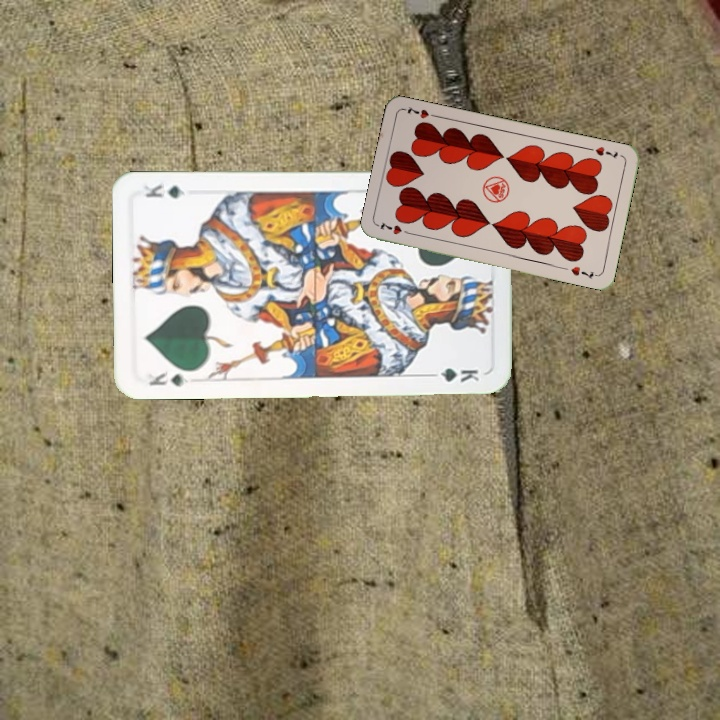GK: (145, 367, 190, 389)
H7: (376, 219, 415, 237), (584, 143, 620, 162)
